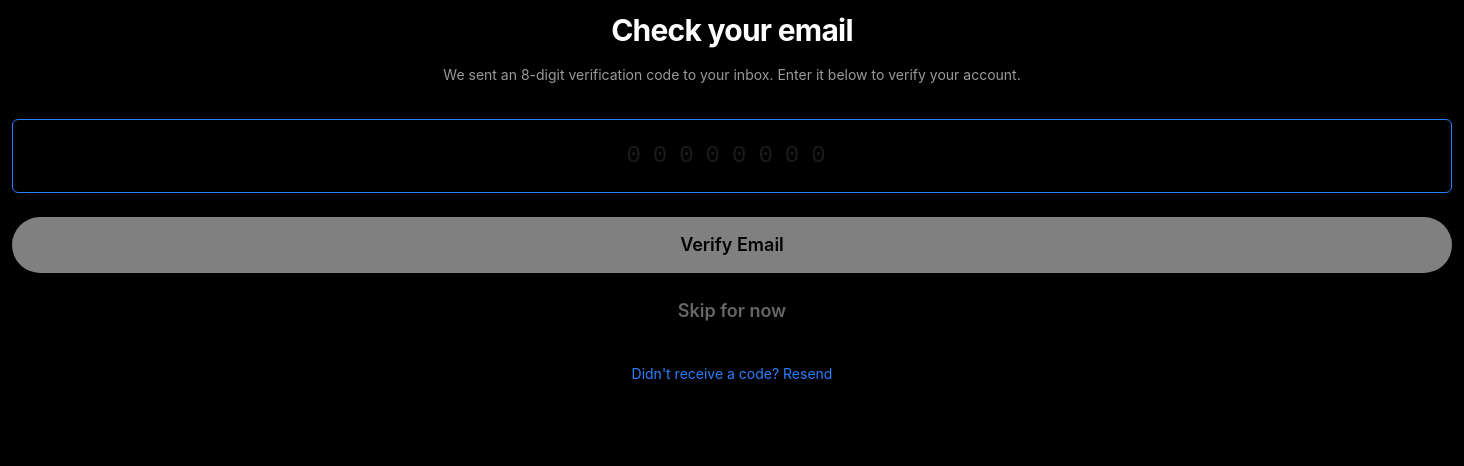
Test: VerifyEmailView › rejects a wrong code in the page, not in a dialog
Type "12345678" into the field with placeholder "00000000" at (732, 156), box top-left (12, 119), bottom-right (1452, 193)
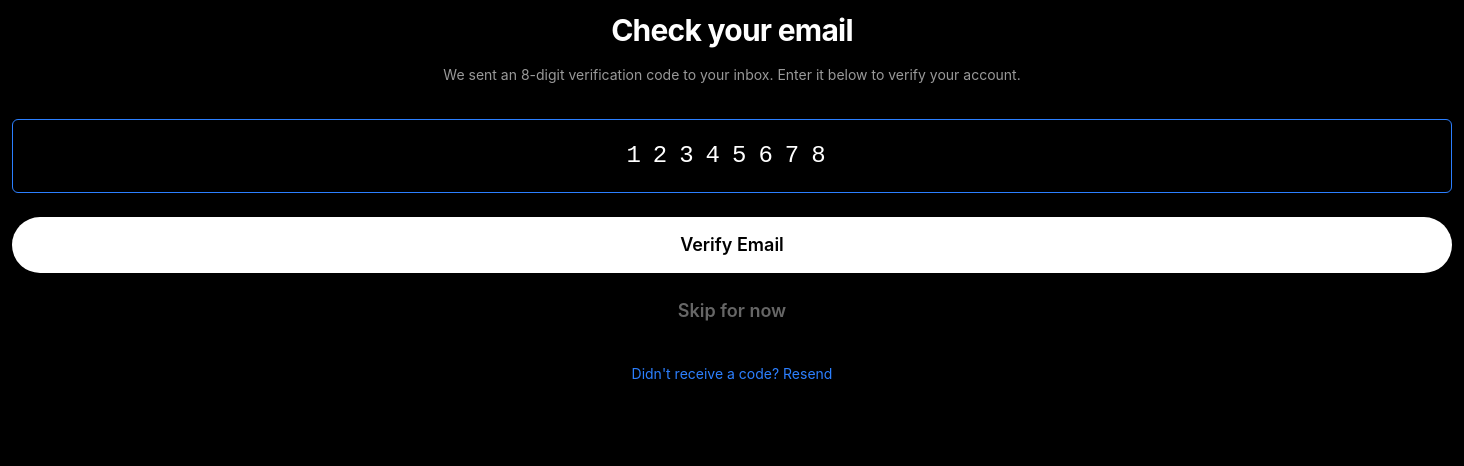
Click the button "Verify Email" at (732, 245), box top-left (12, 217), bottom-right (1452, 273)
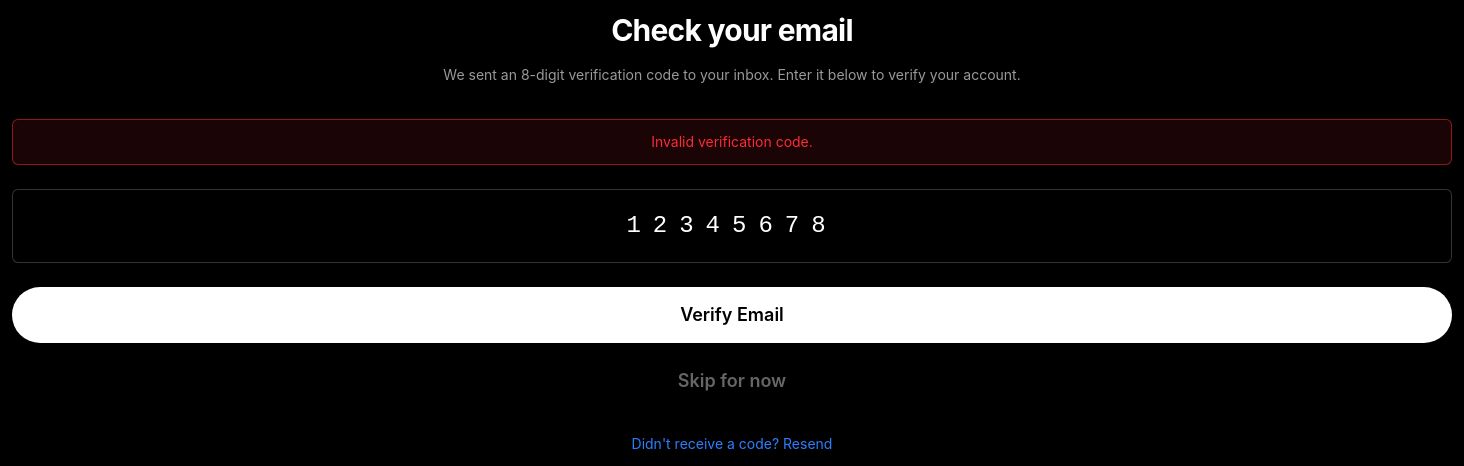
Expected: the text "Invalid verification code." is shown, top-left (12, 119), bottom-right (1452, 165)
